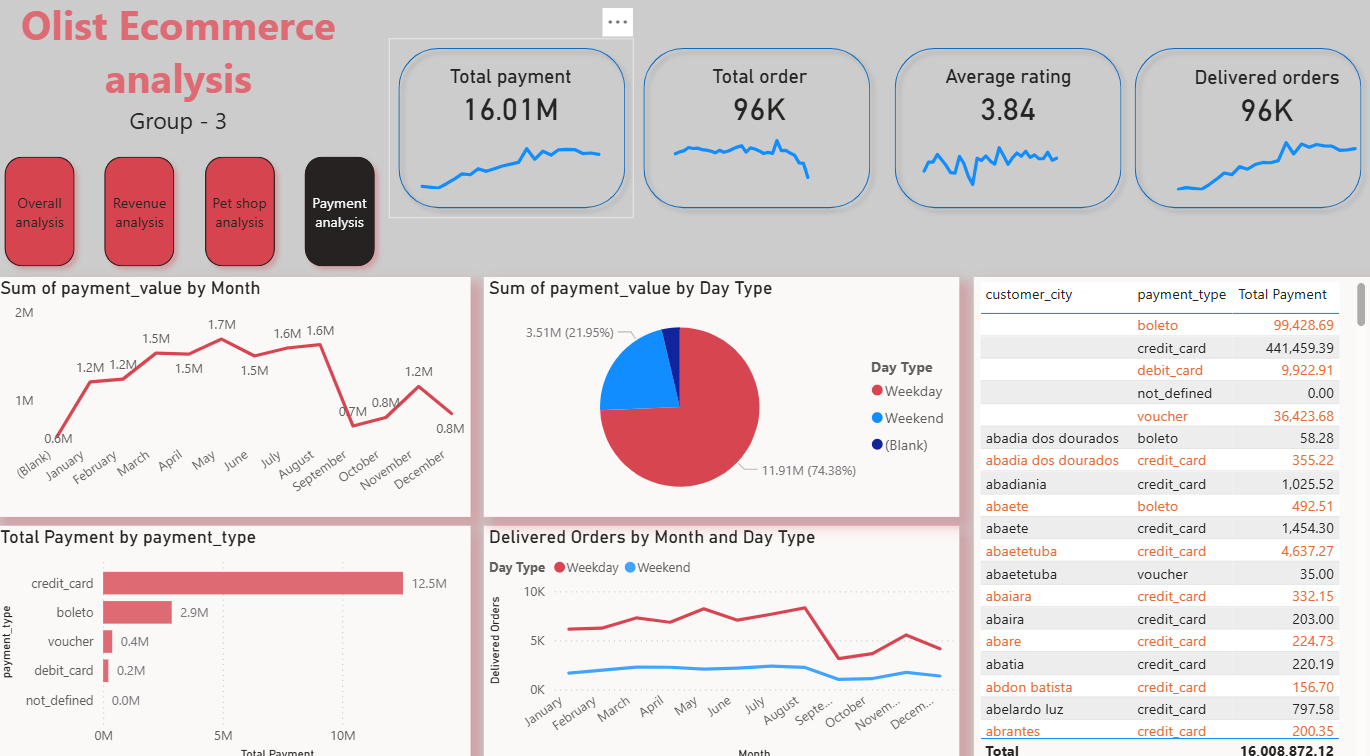

This screenshot's page, from the dashboard's own definition file:
{"tool":"powerbi","page":{"name":"Payment analysis","canvas":[1280,720],"ordinal":3},"visuals":[{"type":"lineChart","fields":{"Category":["olist_orders_dataset.order_purchase_timestamp.Variation.Date Hierarchy.Month"],"Y":["Sum(olist_order_payments_dataset.payment_value)"]},"box":[0,265,442.1,223.2],"z":0},{"type":"barChart","fields":{"Category":["olist_order_payments_dataset.payment_type"],"Y":["olist_order_payments_dataset.Total Payment"]},"box":[0,496.8,442.1,223.2],"z":1000},{"type":"lineChart","fields":{"Category":["olist_orders_dataset.order_purchase_timestamp.Variation.Date Hierarchy.Year","olist_orders_dataset.order_purchase_timestamp.Variation.Date Hierarchy.Quarter","olist_orders_dataset.order_purchase_timestamp.Variation.Date Hierarchy.Month","olist_orders_dataset.order_purchase_timestamp.Variation.Date Hierarchy.Day"],"Y":["olist_orders_dataset.Delivered Orders"],"Series":["olist_orders_dataset.Day Type"]},"box":[455,496.8,442.1,223.2],"z":2000},{"type":"pieChart","fields":{"Y":["Sum(olist_order_payments_dataset.payment_value)"],"Category":["olist_orders_dataset.Day Type"]},"box":[455,265,442.1,223.2],"z":3000},{"type":"textbox","box":[0,0,341,155.5],"z":4000},{"type":"pageNavigator","box":[0,144,365.8,121],"z":5000},{"type":"card","title":"Total order","fields":{"Values":["olist_orders_dataset.Total Orders"]},"box":[613.4,67.7,194.4,59],"z":6000},{"type":"card","title":"Total payment","fields":{"Values":["olist_order_payments_dataset.Total Payment"]},"box":[383,67.7,194.4,59],"z":7000},{"type":"card","title":"Average rating","fields":{"Values":["olist_order_reviews_dataset.Average rating"]},"box":[845.3,67.7,194.4,59],"z":8000},{"type":"card","title":"Delivered orders","fields":{"Values":["olist_orders_dataset.Delivered Orders"]},"box":[1085.8,69.1,194.4,59],"z":9000},{"type":"lineChart","fields":{"Category":["olist_orders_dataset.order_purchase_timestamp.Variation.Date Hierarchy.Year","olist_orders_dataset.order_purchase_timestamp.Variation.Date Hierarchy.Quarter","olist_orders_dataset.order_purchase_timestamp.Variation.Date Hierarchy.Month","olist_orders_dataset.order_purchase_timestamp.Variation.Date Hierarchy.Day"],"Y":["olist_order_payments_dataset.Total Payment"]},"box":[383,121,194.4,67.7],"z":10000},{"type":"lineChart","fields":{"Category":["olist_orders_dataset.order_purchase_timestamp.Variation.Date Hierarchy.Year","olist_orders_dataset.order_purchase_timestamp.Variation.Date Hierarchy.Quarter","olist_orders_dataset.order_purchase_timestamp.Variation.Date Hierarchy.Month","olist_orders_dataset.order_purchase_timestamp.Variation.Date Hierarchy.Day"],"Y":["olist_orders_dataset.Total Orders"]},"box":[613.4,121,194.4,67.7],"z":11000},{"type":"lineChart","fields":{"Category":["olist_orders_dataset.order_purchase_timestamp.Variation.Date Hierarchy.Year","olist_orders_dataset.order_purchase_timestamp.Variation.Date Hierarchy.Quarter","olist_orders_dataset.order_purchase_timestamp.Variation.Date Hierarchy.Month","olist_orders_dataset.order_purchase_timestamp.Variation.Date Hierarchy.Day"],"Y":["olist_order_reviews_dataset.Average rating"]},"box":[845.3,121,194.4,67.7],"z":12000},{"type":"lineChart","fields":{"Category":["olist_orders_dataset.order_purchase_timestamp.Variation.Date Hierarchy.Year","olist_orders_dataset.order_purchase_timestamp.Variation.Date Hierarchy.Quarter","olist_orders_dataset.order_purchase_timestamp.Variation.Date Hierarchy.Month","olist_orders_dataset.order_purchase_timestamp.Variation.Date Hierarchy.Day"],"Y":["olist_orders_dataset.Delivered Orders"]},"box":[1085.8,122.4,194.4,67.7],"z":13000},{"type":"tableEx","fields":{"Values":["olist_customers_dataset.customer_city","olist_order_payments_dataset.payment_type","olist_order_payments_dataset.Total Payment"]},"box":[910.1,265,370.1,455],"z":14000},{"type":"shape","box":[365.8,43.2,229,167],"z":15000},{"type":"shape","box":[594.7,43.2,229,167],"z":16000},{"type":"shape","box":[1051.2,43.2,229,167],"z":17000},{"type":"shape","box":[828,43.2,229,167],"z":18000}]}

Visuals, with their boxes in screenshot pixels (x1, y1, x2, y2), scaled from the page's 1280x720 canvas onto the 1370x756 screenshot:
lineChart - olist_orders_dataset.order_purchase_timestamp.Variation.Date Hierarchy.Month x Sum(olist_order_payments_dataset.payment_value): (left=0, top=278, right=473, bottom=513)
barChart - olist_order_payments_dataset.payment_type x olist_order_payments_dataset.Total Payment: (left=0, top=522, right=473, bottom=755)
lineChart - olist_orders_dataset.order_purchase_timestamp.Variation.Date Hierarchy.Year x olist_orders_dataset.order_purchase_timestamp.Variation.Date Hierarchy.Quarter: (left=487, top=522, right=960, bottom=755)
pieChart - Sum(olist_order_payments_dataset.payment_value) x olist_orders_dataset.Day Type: (left=487, top=278, right=960, bottom=513)
textbox: (left=0, top=0, right=365, bottom=163)
pageNavigator: (left=0, top=151, right=392, bottom=278)
"Total order" card: (left=657, top=71, right=865, bottom=133)
"Total payment" card: (left=410, top=71, right=618, bottom=133)
"Average rating" card: (left=905, top=71, right=1113, bottom=133)
"Delivered orders" card: (left=1162, top=73, right=1369, bottom=135)
lineChart - olist_orders_dataset.order_purchase_timestamp.Variation.Date Hierarchy.Year x olist_orders_dataset.order_purchase_timestamp.Variation.Date Hierarchy.Quarter: (left=410, top=127, right=618, bottom=198)
lineChart - olist_orders_dataset.order_purchase_timestamp.Variation.Date Hierarchy.Year x olist_orders_dataset.order_purchase_timestamp.Variation.Date Hierarchy.Quarter: (left=657, top=127, right=865, bottom=198)
lineChart - olist_orders_dataset.order_purchase_timestamp.Variation.Date Hierarchy.Year x olist_orders_dataset.order_purchase_timestamp.Variation.Date Hierarchy.Quarter: (left=905, top=127, right=1113, bottom=198)
lineChart - olist_orders_dataset.order_purchase_timestamp.Variation.Date Hierarchy.Year x olist_orders_dataset.order_purchase_timestamp.Variation.Date Hierarchy.Quarter: (left=1162, top=129, right=1369, bottom=200)
tableEx - olist_customers_dataset.customer_city x olist_order_payments_dataset.payment_type: (left=974, top=278, right=1369, bottom=755)
shape: (left=392, top=45, right=637, bottom=221)
shape: (left=637, top=45, right=882, bottom=221)
shape: (left=1125, top=45, right=1369, bottom=221)
shape: (left=886, top=45, right=1131, bottom=221)
